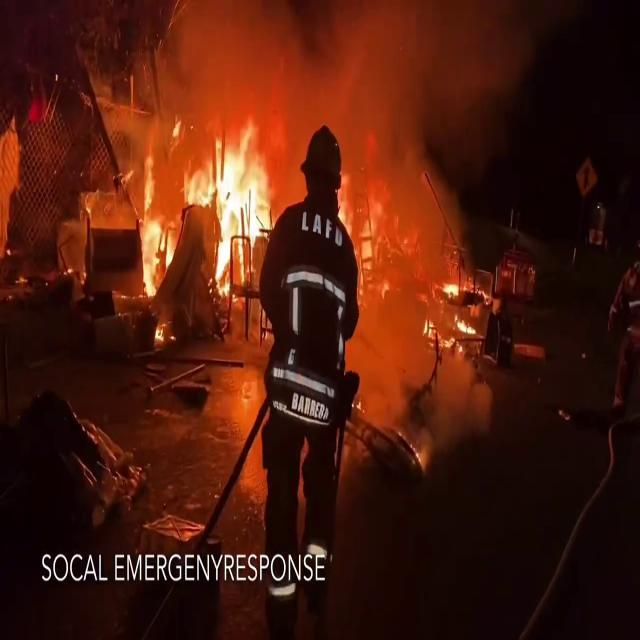Fire: (205, 132, 275, 292), (127, 151, 182, 295), (428, 272, 476, 352)
Smoke: (258, 0, 516, 243)
